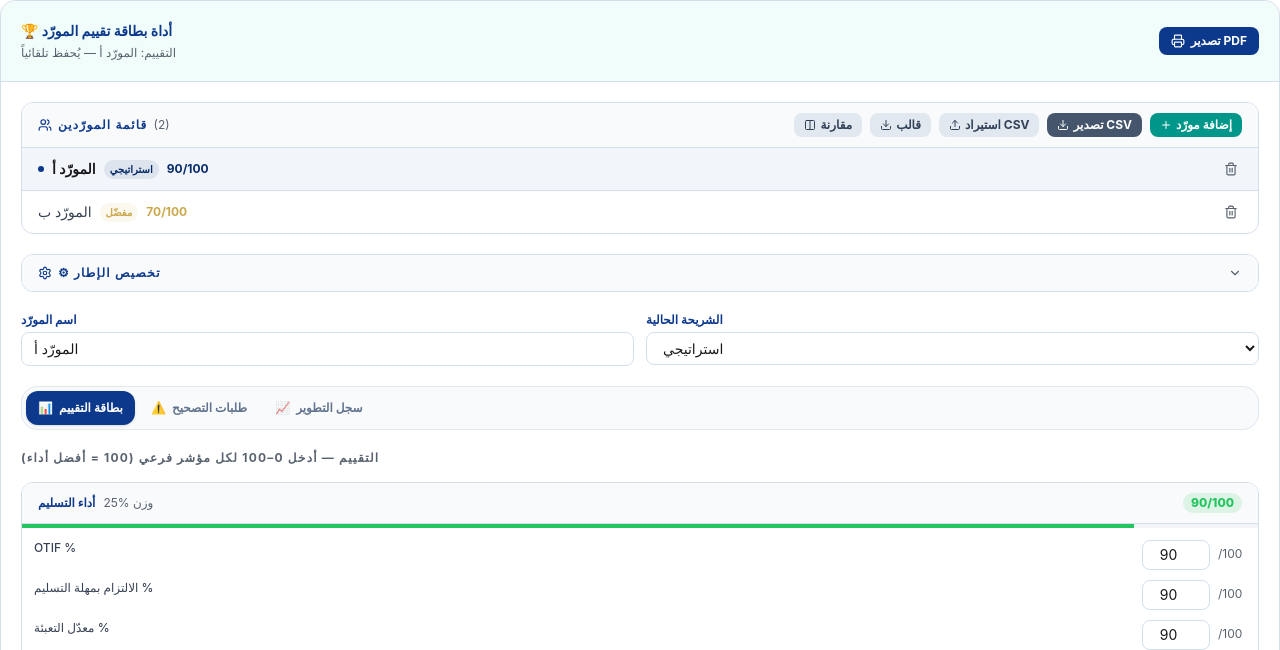
it: Compare view — RTL dir attribute › the overflow container wrapping the comparison table has dir="rtl"
The image size is (1280, 650).
Click the button "مقارنة" at [828, 125], box 794,113 -> 862,137
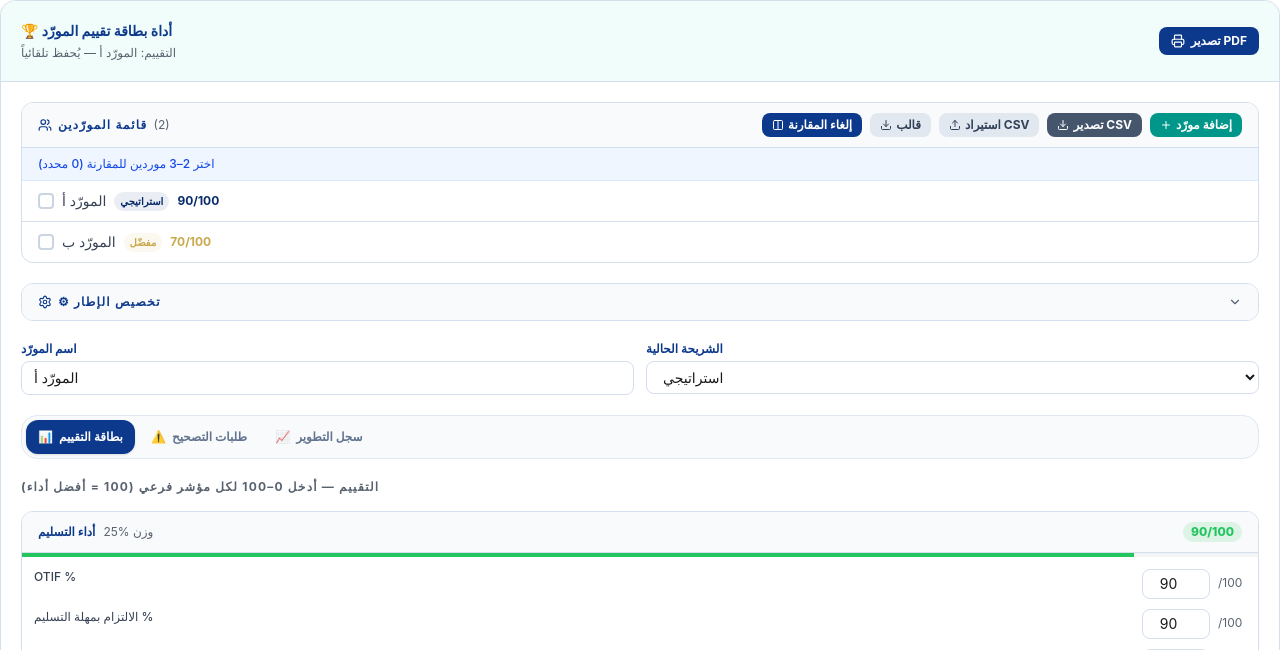
Click the text "المورّد أ" at [84, 201], box 62,191 -> 106,211
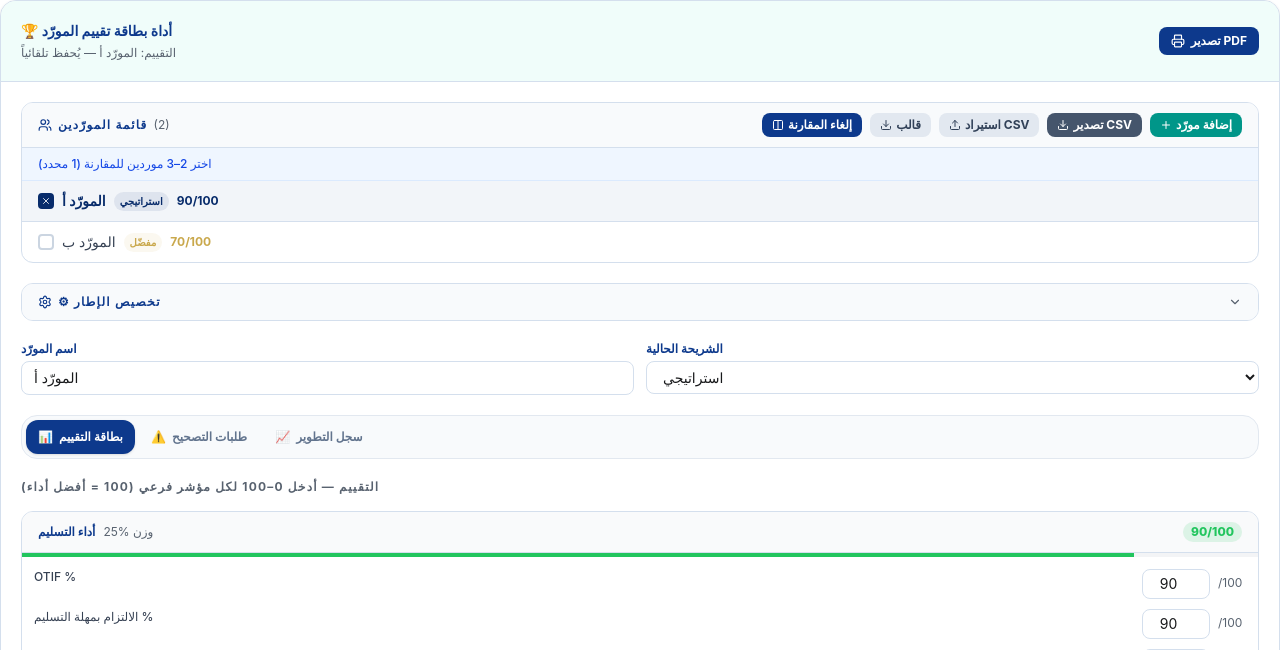
Click the text "المورّد ب" at [89, 242], box 62,232 -> 116,252
(page scrolled)
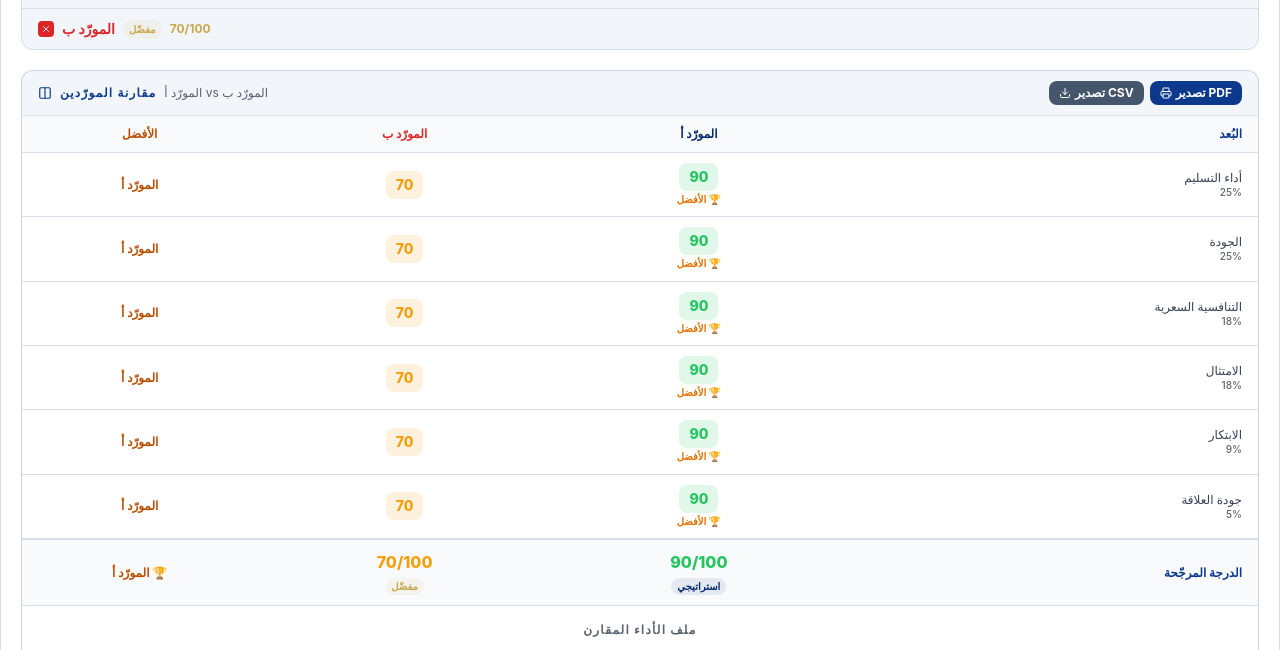
Now the element that starts with "البُعد" is shown
